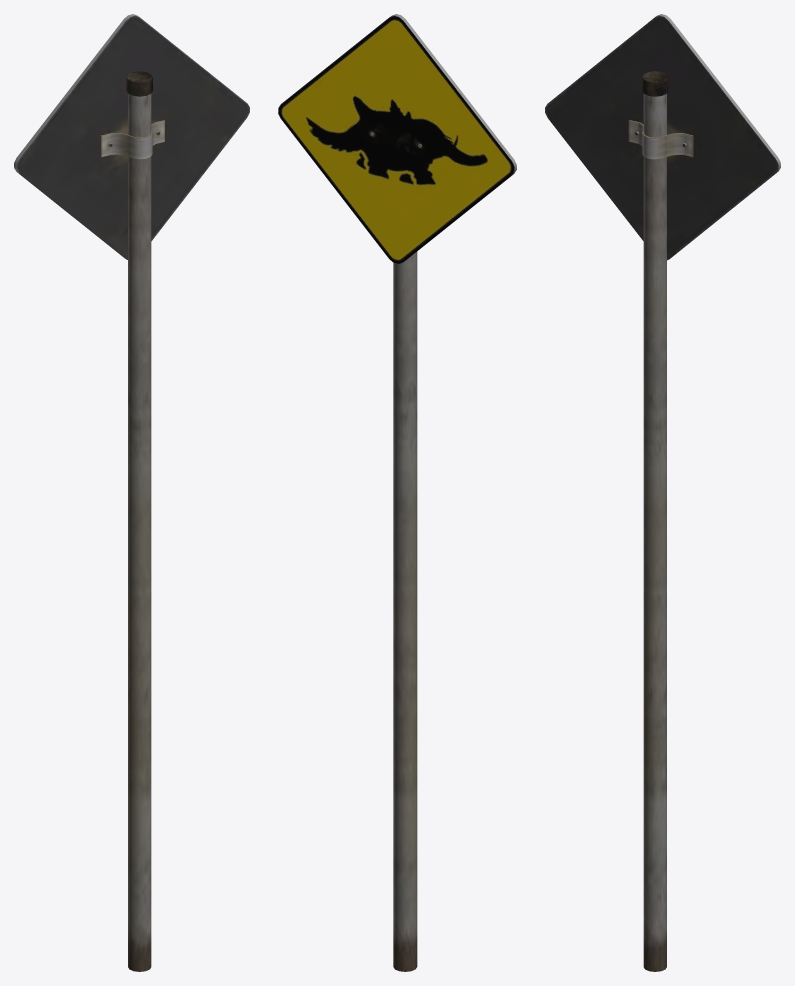
Rendered from SM_Sign_Priority_02_merged_de9421.glb.
3 views of the same model, side by side, from view 1: azimuth 30°, elevation 25°; view 2: azimuth 150°, elevation 25°; view 3: azimuth 330°, elevation 25° (orthographic).
Bounding box in the file's own units: 0.6864 × 2.66 × 0.0827.
2 materials, 2 textured.
